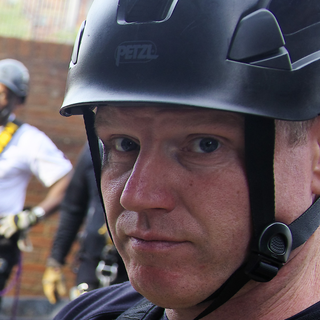eye: (183, 132, 230, 158), (107, 133, 140, 156)
